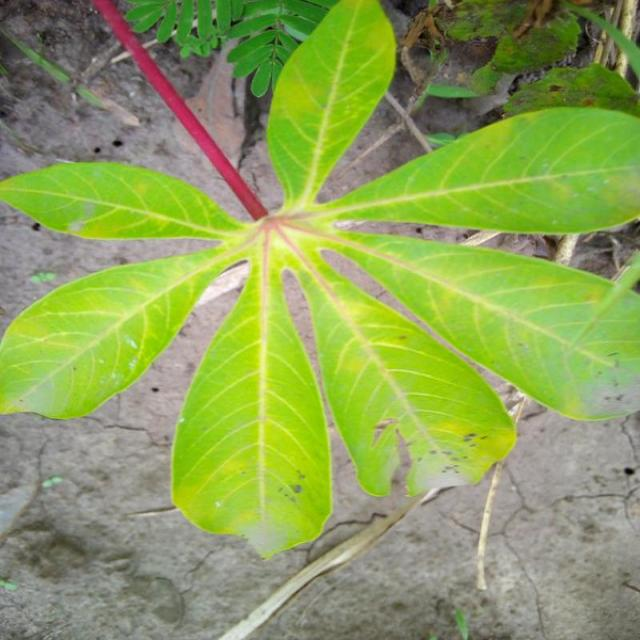cassava leaf: (0, 0, 639, 561), (170, 233, 333, 560), (315, 103, 639, 234), (265, 0, 397, 212), (0, 158, 250, 242)
